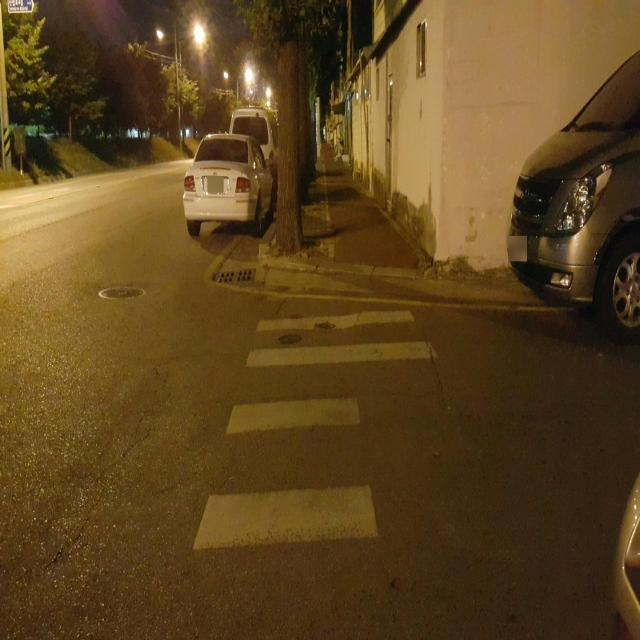횡단보도: (191, 308, 439, 552)
